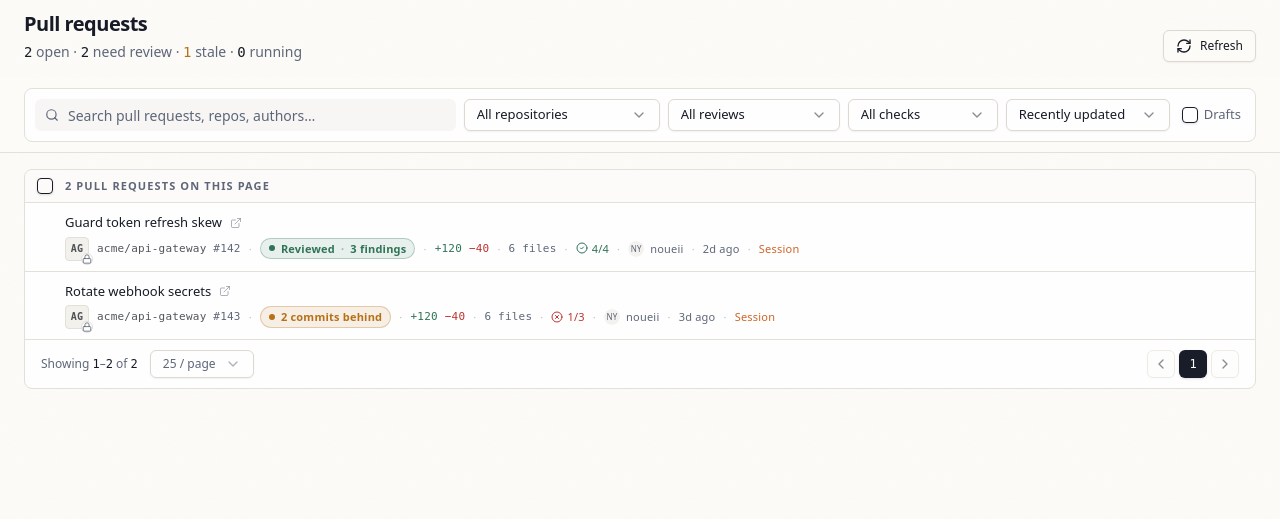
Scenario: selection › extends the selection across a shift-clicked range
This screenshot has width=1280, height=519.
Step 1. Click the list item that starts with "Guard token refresh skew" → [152, 248], box [65, 213, 799, 264]
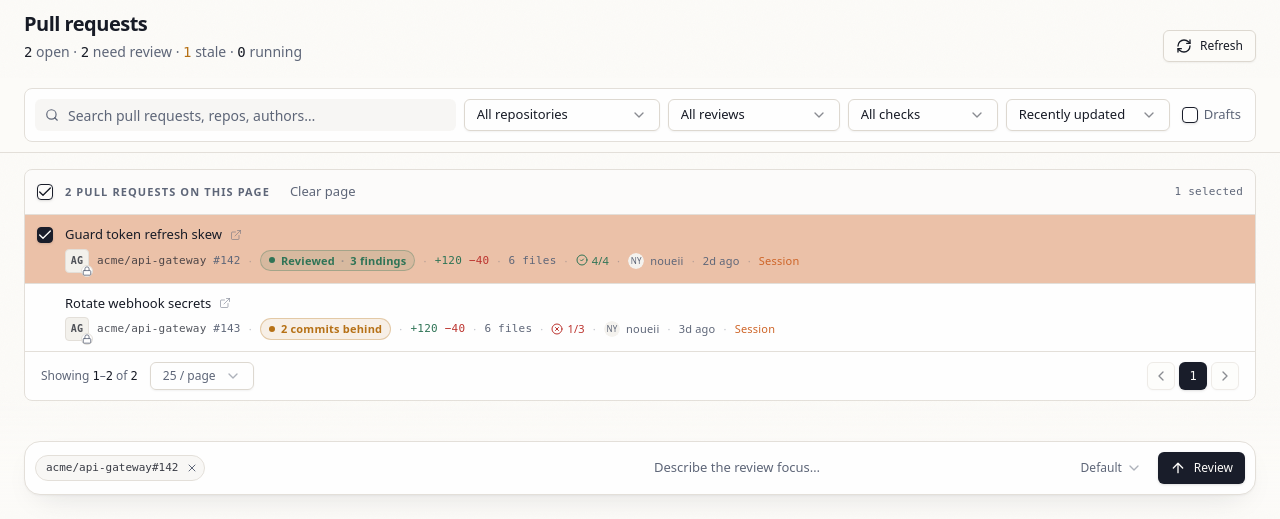
Step 2. Click the list item that starts with "Rotate webhook secrets" → [640, 317], box [25, 282, 1255, 351]
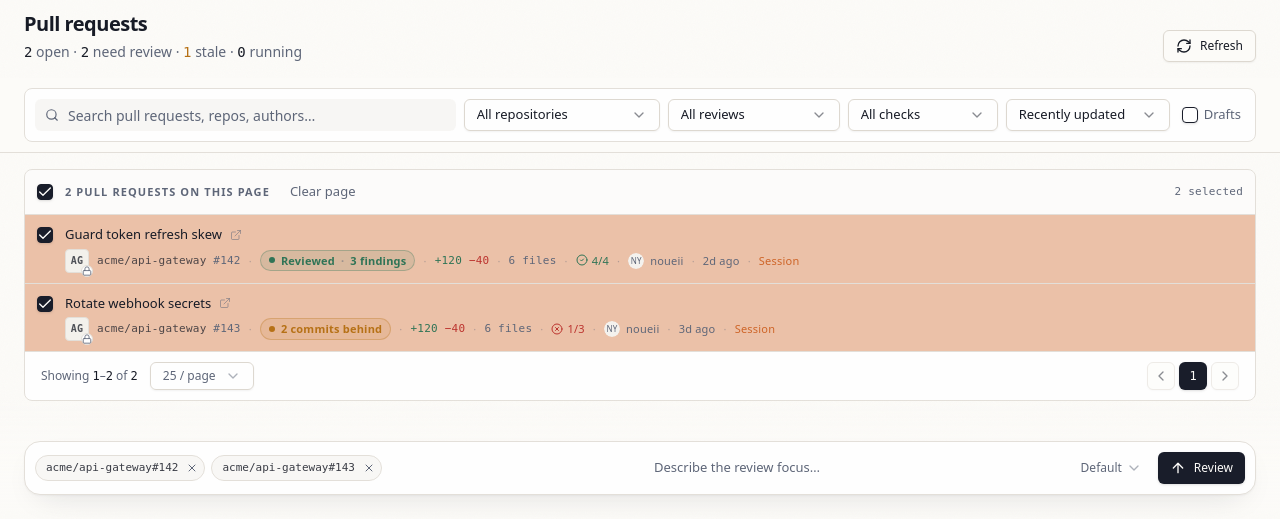
Now the button named "Remove pull request #142" is shown, box [184, 460, 200, 476]
Now the button named "Remove pull request #143" is shown, box [361, 460, 377, 476]
